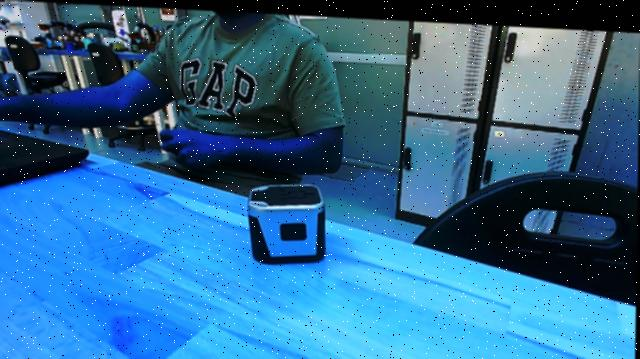adapter: (239, 177, 336, 268)
